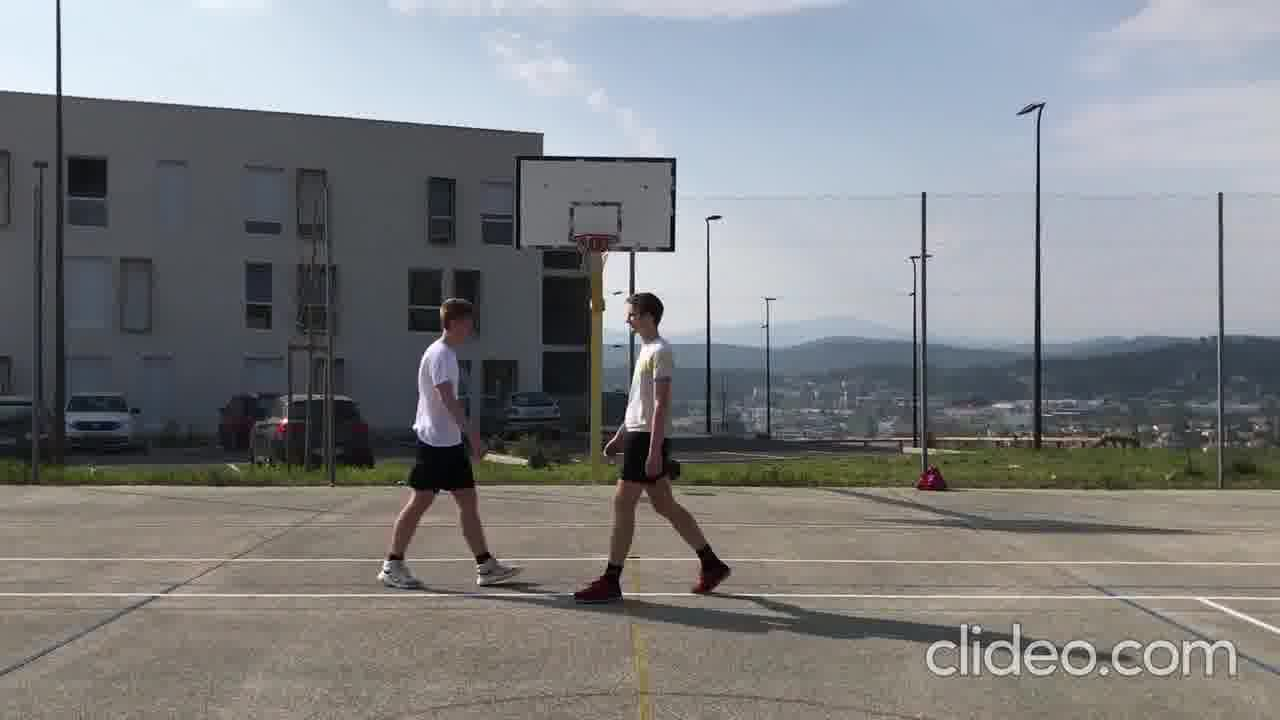jugador: (561, 284, 742, 615)
